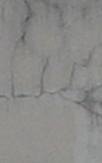fissura: (0, 0, 102, 119)
